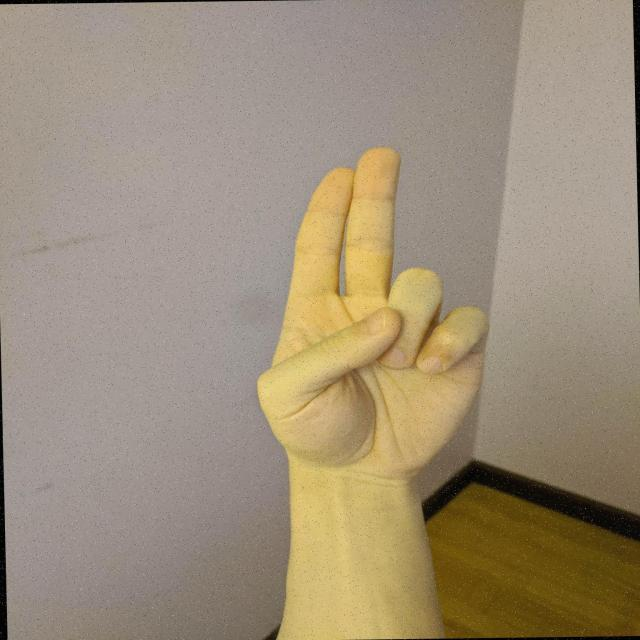U: (245, 141, 496, 483)
